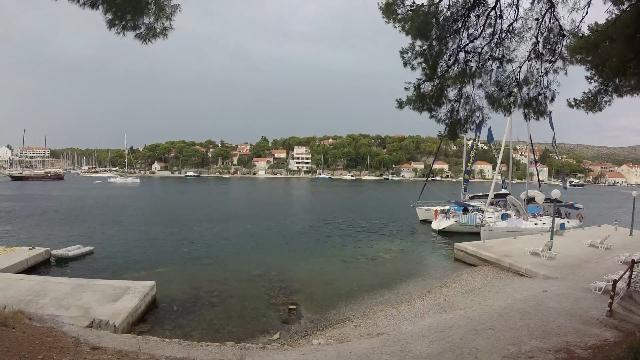Freighter: (3, 164, 73, 186)
Sailboat: (102, 172, 146, 187)
